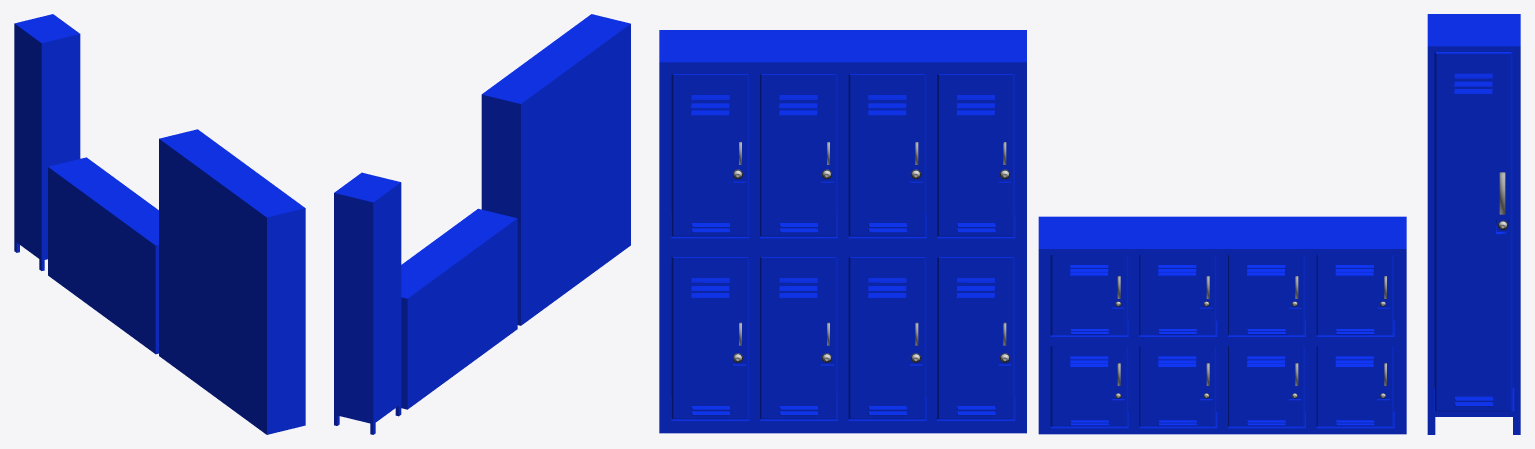
File: fbx lockers.fbx
3 views of the same model, side by side, from view 1: azimuth 30°, elevation 25°; view 2: azimuth 150°, elevation 25°; view 3: azimuth 270°, elevation 25° (orthographic). The views are drawn at different scales.
Visible parts, largest first — view 1: Locker_a, Locker_B, Locker_c; view 2: Locker_a, Locker_B, Locker_c; view 3: Locker_a, Locker_B, Lockerdoor_q, Lockerdoor_g, Lockerdoor_c, Lockerdoor_e, Lockerdoor_a, Lockerdoor_h, Lockerdoor_d, Lockerdoor_f, Lockerdoor_b, Locker_c (+11 smaller).
Part boxes in pixels (x1,y1,x2,y2): Locker_a: [159, 129, 305, 434]; Locker_B: [48, 157, 158, 354]; Locker_c: [14, 14, 80, 270]; Locker_a: [481, 14, 630, 325]; Locker_B: [401, 208, 517, 409]; Locker_c: [334, 172, 401, 434]; Locker_a: [659, 30, 1026, 433]; Locker_B: [1038, 216, 1406, 434]; Lockerdoor_q: [1434, 52, 1512, 411]; Lockerdoor_g: [848, 257, 926, 419]; Lockerdoor_c: [848, 74, 926, 236]; Lockerdoor_e: [671, 257, 749, 419]; Lockerdoor_a: [671, 74, 749, 236]; Lockerdoor_h: [937, 257, 1014, 419]; Lockerdoor_d: [937, 74, 1014, 236]; Lockerdoor_f: [760, 257, 837, 419]; Lockerdoor_b: [760, 74, 837, 236]; Locker_c: [1427, 14, 1520, 434].
Bounding box in the file's own units: 14.62 × 78 × 157.
Materials: 2 (1 with a texture image).
